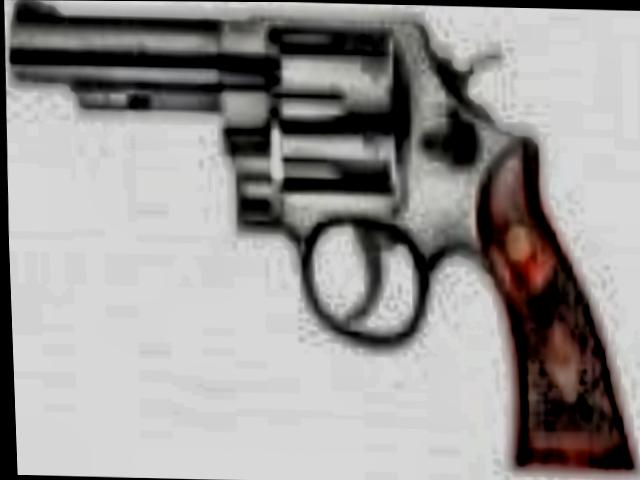pistol: (0, 0, 640, 477)
